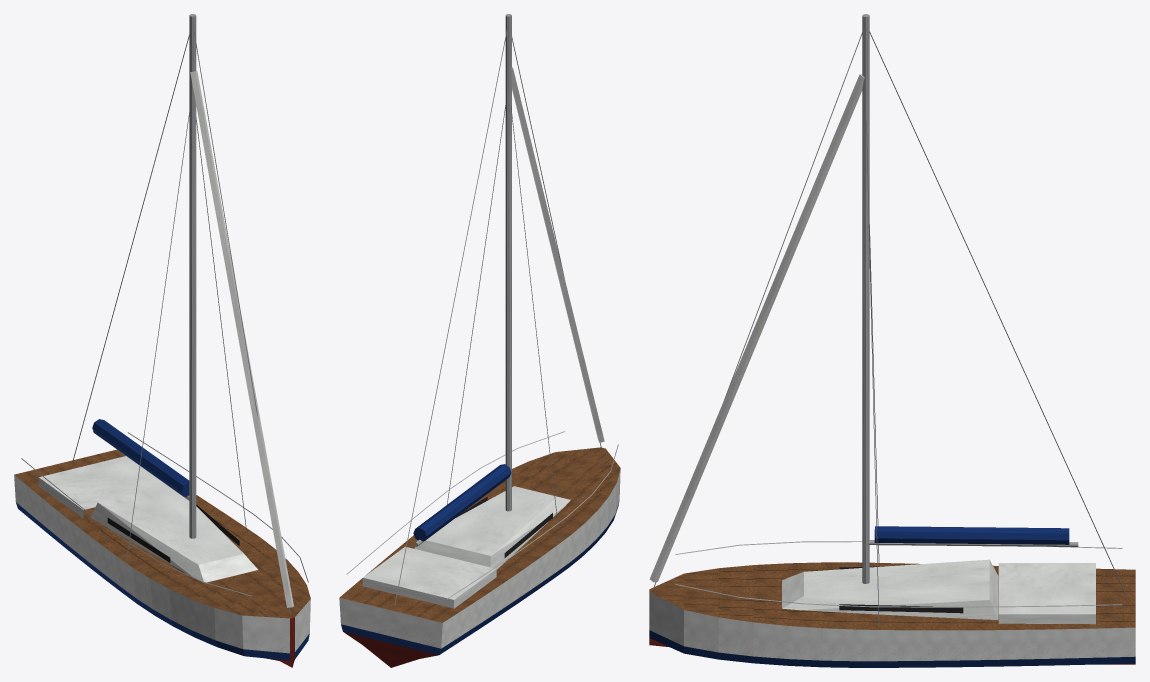
Rendered from SM_Mirabello_YachtB_v2.fbx.
The picture shows the model from 3 angles, left to right: view 1: azimuth 30°, elevation 25°; view 2: azimuth 150°, elevation 25°; view 3: azimuth 270°, elevation 25°; orthographic projection. The views are drawn at different scales.
Parts seen in each view (by area): view 1: SM_Mirabello_YachtB_v2; view 2: SM_Mirabello_YachtB_v2; view 3: SM_Mirabello_YachtB_v2.
Boxes of the visible parts, left/top/right/bottom form: SM_Mirabello_YachtB_v2: left=14, top=14, right=310, bottom=667; SM_Mirabello_YachtB_v2: left=339, top=14, right=620, bottom=667; SM_Mirabello_YachtB_v2: left=649, top=14, right=1135, bottom=667.
Bounding box in the file's own units: 360 × 1100 × 1620.
1 material, 1 textured.
